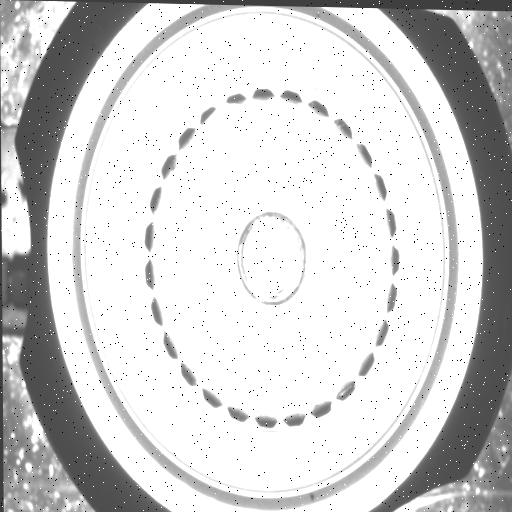gear: (142, 86, 402, 432)
